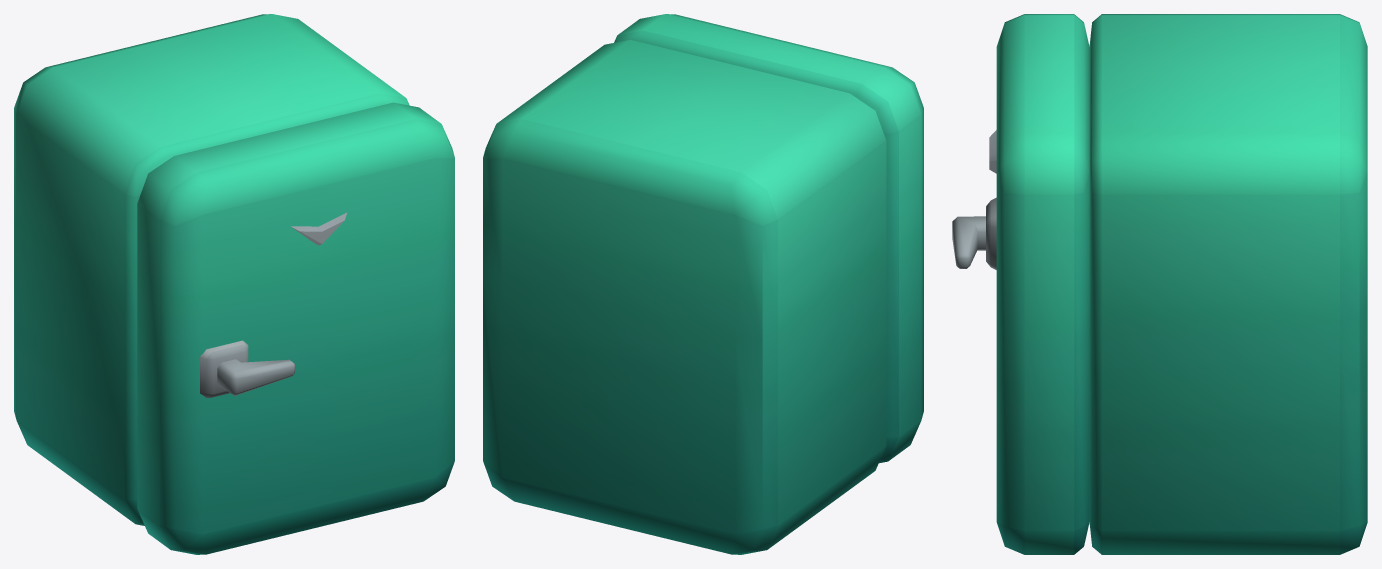
The model's file is kkr.fridge_b.glb.
The picture shows the model from 3 angles, left to right: view 1: azimuth 30°, elevation 25°; view 2: azimuth 150°, elevation 25°; view 3: azimuth 270°, elevation 25°; orthographic projection. The views are drawn at different scales.
Parts seen in each view (by area): view 1: fridge_B_door, Cube.006; view 2: Cube.006, fridge_B_door; view 3: Cube.006, fridge_B_door.
Boxes of the visible parts, x1=… form: fridge_B_door: x1=137, y1=102, x2=454, y2=554; Cube.006: x1=14, y1=14, x2=409, y2=525; Cube.006: x1=483, y1=39, x2=886, y2=554; fridge_B_door: x1=614, y1=14, x2=923, y2=463; Cube.006: x1=1089, y1=14, x2=1367, y2=554; fridge_B_door: x1=952, y1=14, x2=1089, y2=554.
Size of the model in its own units: 1.49 by 1.86 by 1.67.
1 material, 1 textured.
